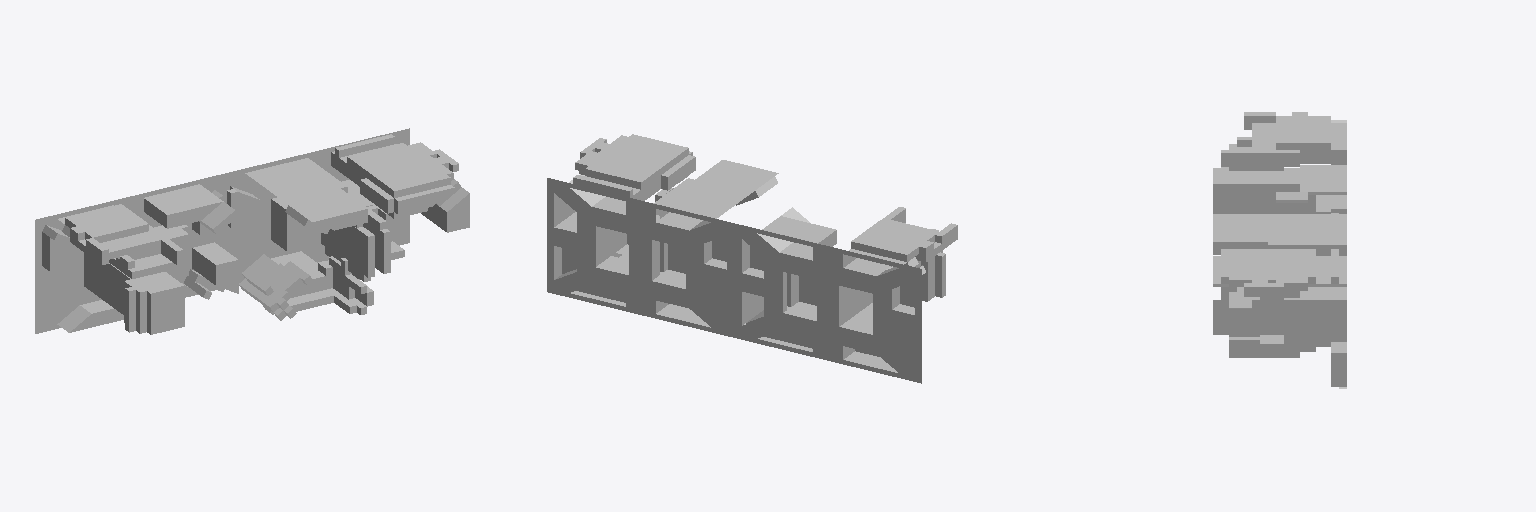
The model's file is my_city4.obj.
The picture shows the model from 3 angles: view 1: azimuth 30°, elevation 25°; view 2: azimuth 150°, elevation 25°; view 3: azimuth 270°, elevation 25°; orthographic projection.
Visible parts, largest first — view 1: brick, roof, road, frame, glass, construct_up, plaza; view 2: road, brick, frame, glass, roof, construct_down, plaza; view 3: brick, frame, glass.
Part boxes in pixels (bbox=[...]): brick: bbox=[42, 134, 468, 334]; roof: bbox=[42, 137, 461, 332]; road: bbox=[35, 128, 409, 333]; frame: bbox=[42, 135, 465, 333]; glass: bbox=[43, 136, 464, 331]; construct_up: bbox=[102, 163, 469, 334]; plaza: bbox=[222, 222, 259, 273]; road: bbox=[547, 178, 921, 383]; brick: bbox=[554, 137, 957, 368]; frame: bbox=[554, 134, 957, 372]; glass: bbox=[555, 135, 956, 372]; roof: bbox=[562, 234, 914, 367]; construct_down: bbox=[573, 148, 941, 327]; plaza: bbox=[697, 272, 733, 336]; brick: bbox=[1213, 112, 1346, 382]; frame: bbox=[1213, 112, 1346, 388]; glass: bbox=[1214, 113, 1345, 388].
Size of the model in its own units: 274 by 83.6 by 85.